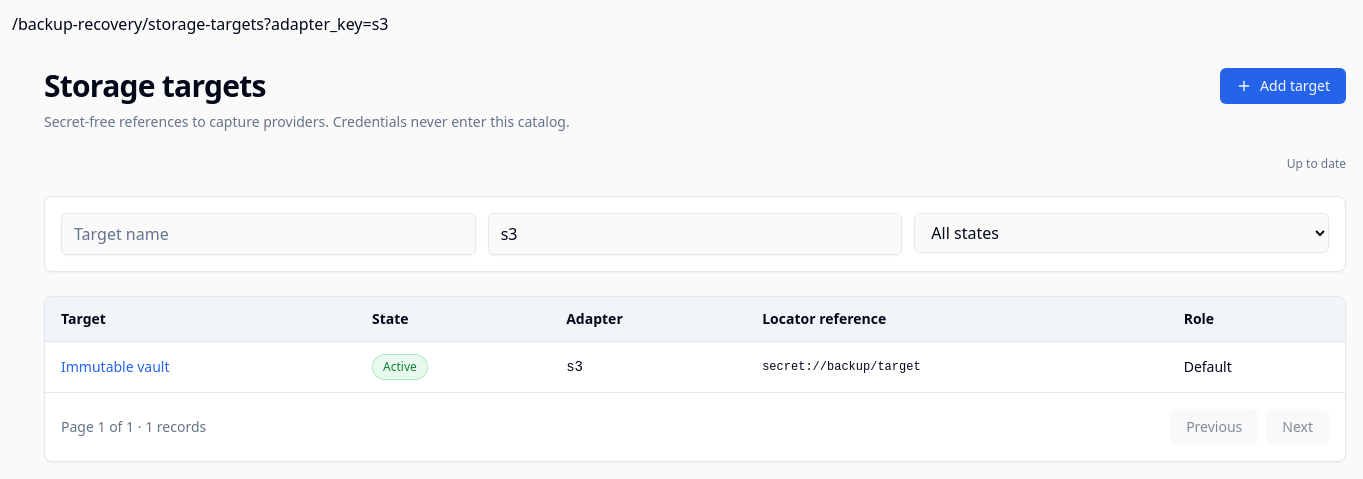
backup recovery governed page states › renders storage target rows without exposing credential values
Expected: the text "secret://backup/target" is shown, top-left (746, 342), bottom-right (1168, 392)
Click the button "Immutable vault" at (115, 367), box top-left (61, 357), bottom-right (170, 377)
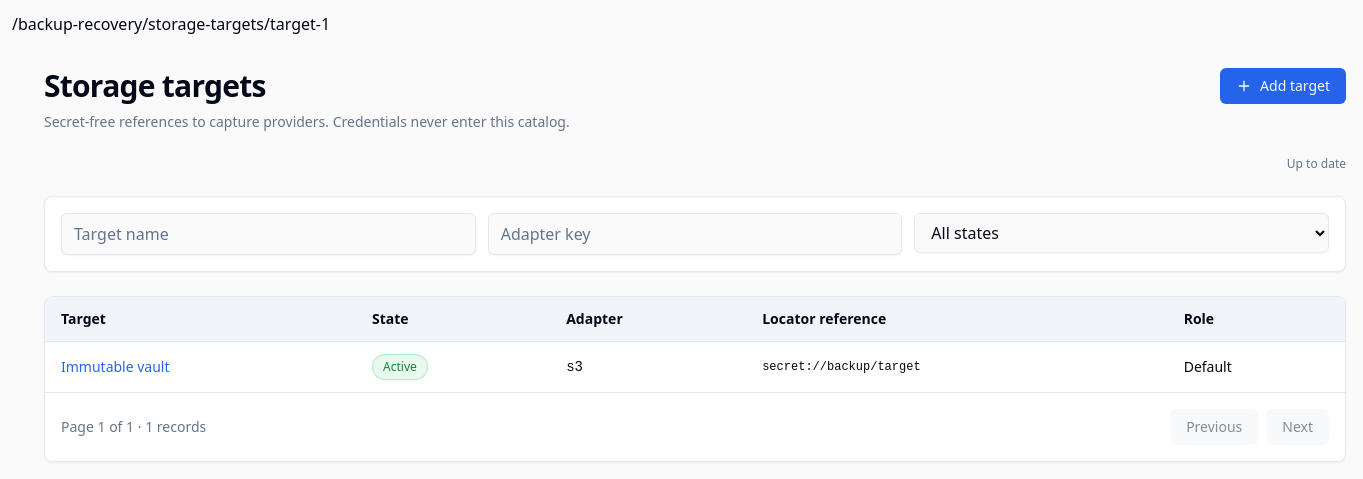
Result: the text named "Current route" reads "/backup-recovery/storage-targets/target-1" at top-left (12, 13), bottom-right (330, 35)
